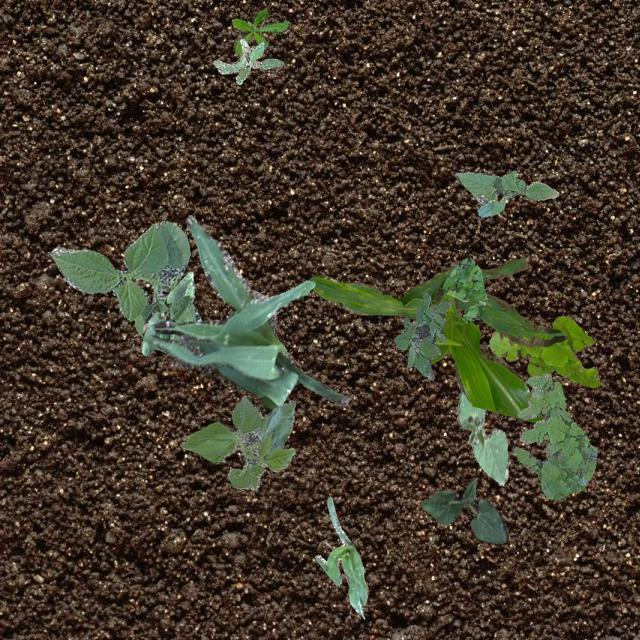crop: (308, 258, 566, 422), (144, 214, 350, 408), (49, 220, 200, 340), (180, 394, 294, 490), (314, 496, 368, 614), (418, 476, 508, 542), (456, 388, 508, 484), (453, 170, 558, 217), (140, 270, 193, 354)
weed: (512, 372, 596, 498), (488, 316, 600, 386), (394, 292, 451, 379), (212, 38, 282, 84), (442, 256, 486, 322), (230, 8, 288, 54)
